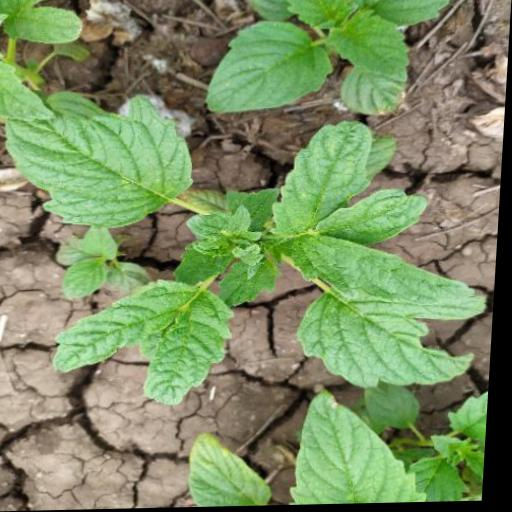crop: (0, 86, 508, 408), (167, 0, 505, 128)
